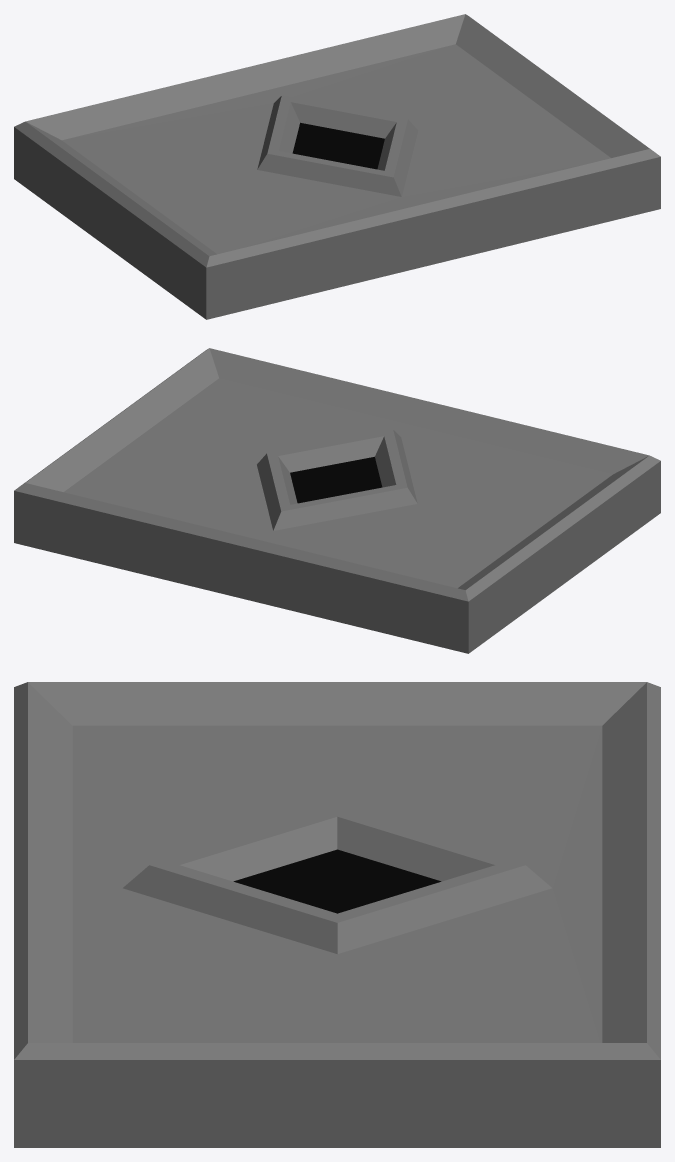
The model's file is SingleSpikeStoneTrap_4.fbx.
The picture shows the model from 3 angles, top to bottom: view 1: azimuth 30°, elevation 25°; view 2: azimuth 150°, elevation 25°; view 3: azimuth 270°, elevation 25°; orthographic projection. The views are drawn at different scales.
Visible parts, largest first — view 1: SingleSpikeStoneTrap_4; view 2: SingleSpikeStoneTrap_4; view 3: SingleSpikeStoneTrap_4.
Boxes of the visible parts, x1=… form: SingleSpikeStoneTrap_4: x1=14, y1=14, x2=660, y2=319; SingleSpikeStoneTrap_4: x1=14, y1=348, x2=660, y2=653; SingleSpikeStoneTrap_4: x1=14, y1=682, x2=660, y2=1147.
Size of the model in its own units: 30 by 3.71 by 22.
